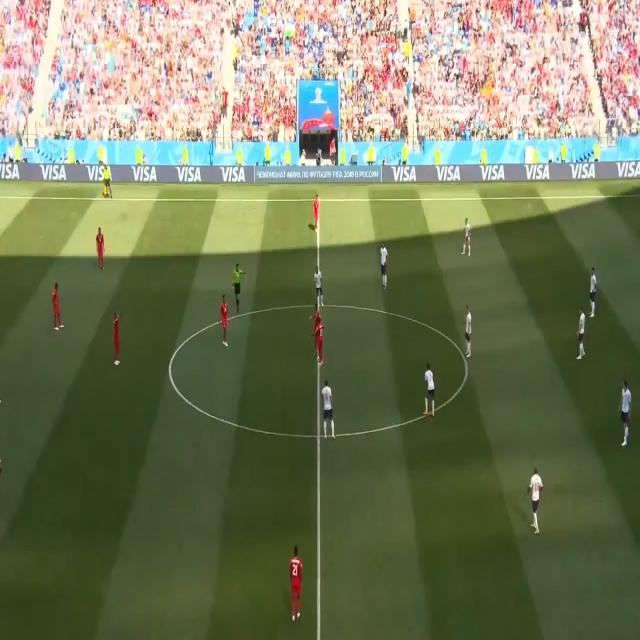player: (525, 464, 544, 540), (290, 546, 304, 625), (618, 381, 634, 449), (319, 380, 336, 440), (422, 362, 438, 422), (50, 276, 64, 335), (586, 263, 598, 321), (220, 292, 232, 349), (312, 266, 326, 314), (110, 310, 121, 368), (576, 304, 586, 362), (378, 240, 388, 293), (461, 211, 472, 258), (463, 306, 472, 362), (316, 318, 326, 366), (95, 224, 105, 268), (313, 192, 321, 232)
